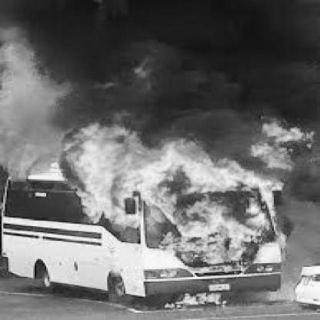Fire: (49, 102, 315, 272), (86, 62, 177, 100)
